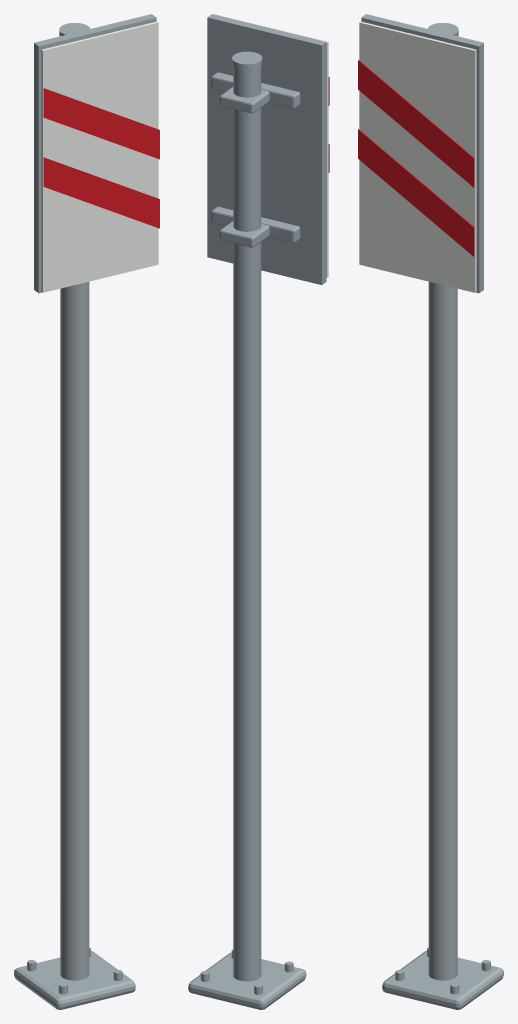
The model's file is DS_Sign_RailwayDist2_L.glb.
3 views of the same model, side by side, from view 1: azimuth 30°, elevation 25°; view 2: azimuth 150°, elevation 25°; view 3: azimuth 330°, elevation 25° (orthographic). The views are drawn at different scales.
Parts seen in each view (by area): view 1: Face_Field.006, Post.008, BasePlate.008, Stripe_0.004, Stripe_1.003, Plate_Back.011; view 2: Post.008, Plate_Back.011, BasePlate.008, RearRail.018, RearRail.017, Face_Field.006, PostClamp.018, PostClamp.017, PostCap.008; view 3: Face_Field.006, Post.008, Stripe_0.004, Stripe_1.003, BasePlate.008, Plate_Back.011.
Part boxes in pixels (x1=…): Face_Field.006: x1=41, y1=21, x2=158, y2=292; Post.008: x1=60, y1=281, x2=89, y2=980; BasePlate.008: x1=14, y1=951, x2=135, y2=1009; Stripe_0.004: x1=43, y1=157, x2=159, y2=228; Stripe_1.003: x1=43, y1=88, x2=159, y2=159; Plate_Back.011: x1=34, y1=14, x2=156, y2=293; Post.008: x1=233, y1=66, x2=261, y2=981; Plate_Back.011: x1=207, y1=14, x2=326, y2=284; BasePlate.008: x1=188, y1=952, x2=306, y2=1009; RearRail.018: x1=211, y1=72, x2=300, y2=108; RearRail.017: x1=211, y1=206, x2=300, y2=242; Face_Field.006: x1=216, y1=14, x2=328, y2=277; PostClamp.018: x1=220, y1=86, x2=269, y2=113; PostClamp.017: x1=220, y1=221, x2=269, y2=247; PostCap.008: x1=232, y1=51, x2=262, y2=69; Face_Field.006: x1=359, y1=21, x2=476, y2=292; Post.008: x1=428, y1=281, x2=457, y2=980; Stripe_0.004: x1=358, y1=129, x2=474, y2=256; Stripe_1.003: x1=358, y1=60, x2=474, y2=187; BasePlate.008: x1=382, y1=951, x2=503, y2=1009; Plate_Back.011: x1=361, y1=14, x2=483, y2=293.
Bounding box in the file's own units: 0.357 × 2.81 × 0.262.
